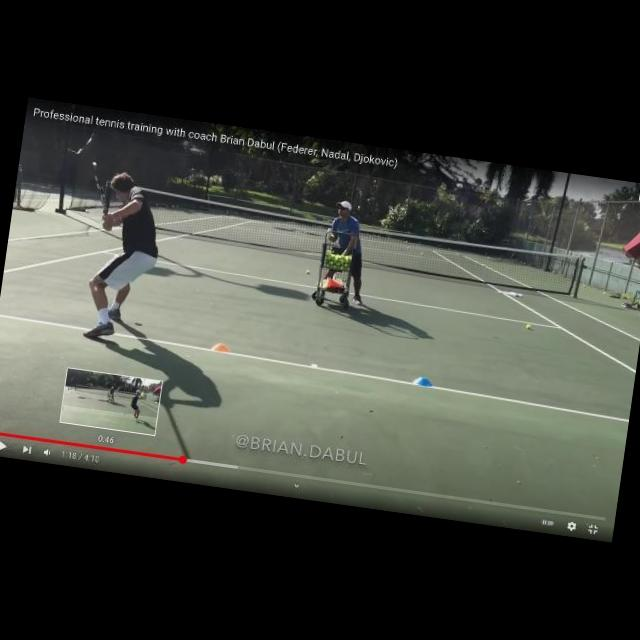Tennis Ball: (526, 324, 532, 329), (305, 270, 310, 274), (604, 292, 606, 296), (584, 284, 586, 286)
